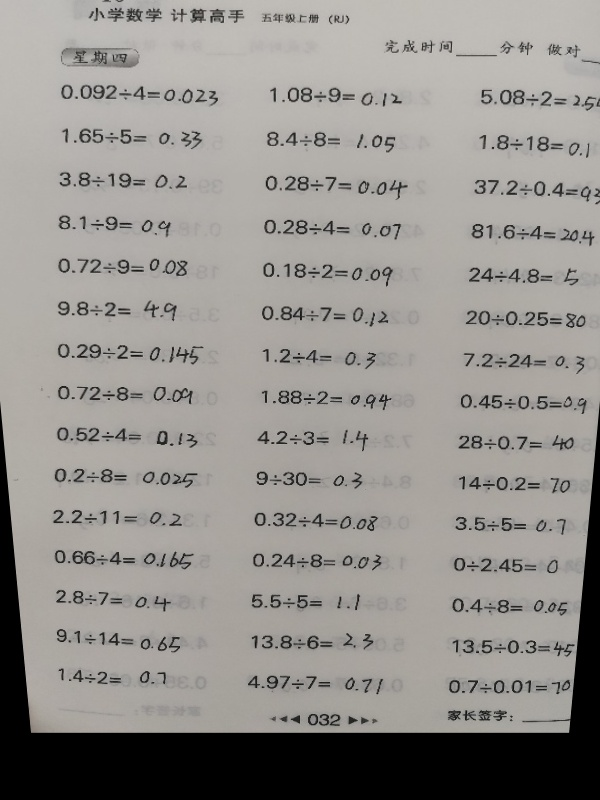equation: (258, 125, 406, 160), (53, 424, 207, 453), (260, 171, 410, 200), (55, 80, 221, 106), (473, 130, 599, 164), (248, 423, 384, 454), (51, 465, 204, 492), (258, 259, 396, 288), (53, 340, 206, 366), (475, 85, 599, 117), (58, 124, 204, 151), (51, 585, 174, 617), (264, 82, 406, 109), (258, 215, 405, 241), (470, 175, 599, 204), (52, 293, 179, 322), (245, 672, 390, 697), (256, 300, 393, 326), (50, 545, 196, 569), (52, 252, 191, 277), (467, 220, 598, 246), (53, 381, 196, 404), (459, 350, 588, 375), (257, 387, 395, 410), (54, 664, 176, 690), (455, 390, 590, 413), (54, 211, 173, 237), (52, 629, 183, 652), (248, 550, 384, 572), (48, 506, 184, 528), (55, 168, 191, 190), (448, 636, 577, 659), (249, 630, 377, 653), (465, 263, 582, 288), (258, 346, 379, 370), (461, 307, 590, 329), (454, 473, 572, 497), (247, 591, 374, 613), (249, 510, 381, 531), (450, 513, 569, 536), (455, 432, 579, 454), (447, 595, 570, 617), (445, 677, 573, 697), (252, 468, 366, 490), (448, 555, 561, 576)
